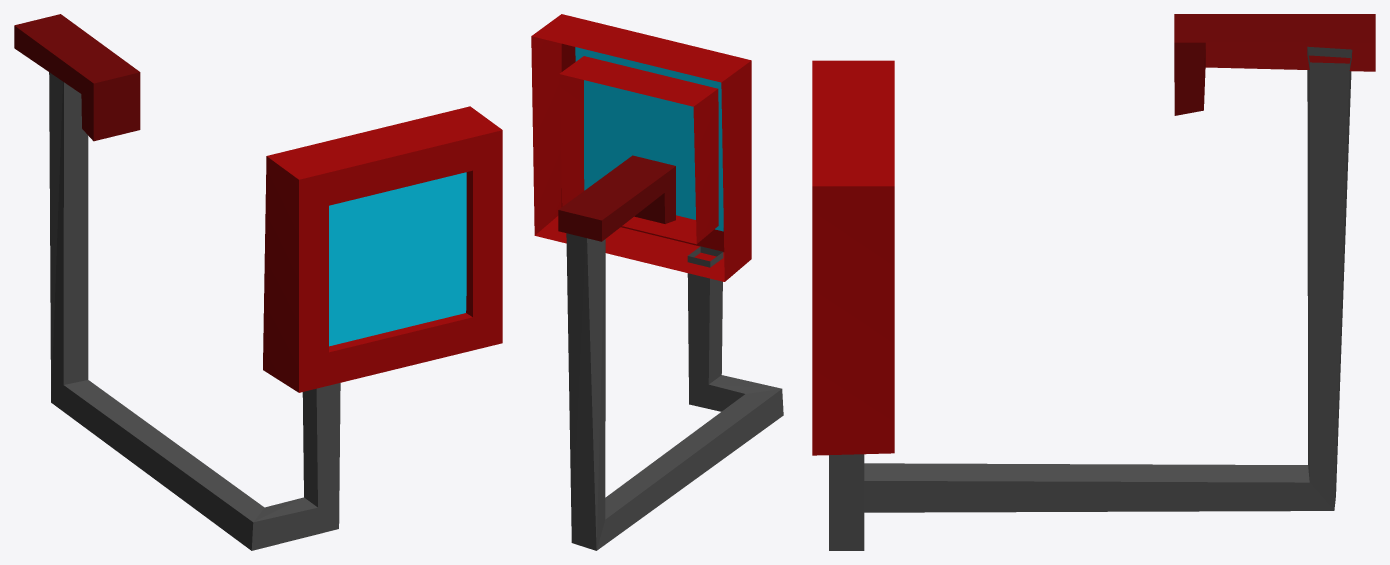
Rendered from Glasses 02.FBX.
3 renders of one model, left to right at view 1: azimuth 30°, elevation 25°; view 2: azimuth 150°, elevation 25°; view 3: azimuth 270°, elevation 25°, orthographic. The views are drawn at different scales.
Parts seen in each view (by area): view 1: Glasses 02; view 2: Glasses 02; view 3: Glasses 02.
Part boxes in pixels (left/top/right/bottom): Glasses 02: left=14, top=14, right=502, bottom=550; Glasses 02: left=531, top=14, right=783, bottom=550; Glasses 02: left=812, top=14, right=1375, bottom=550.
Bounding box in the file's own units: 25.3 × 33.88 × 36.71.
